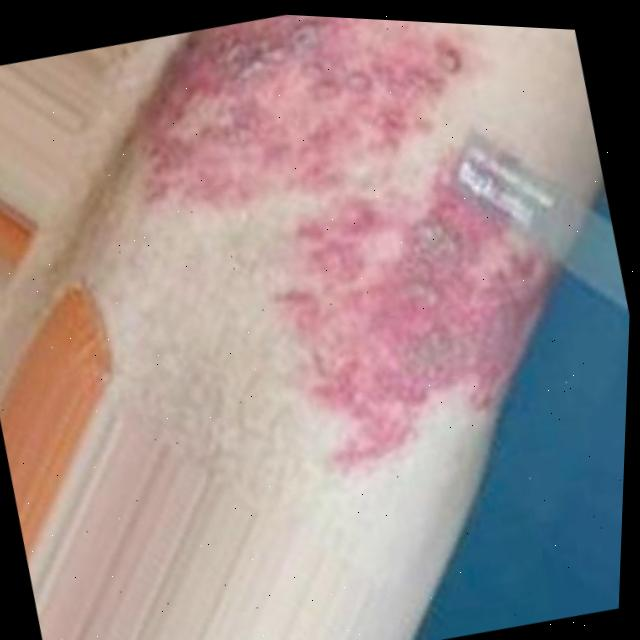Shingles: (100, 6, 586, 524)
